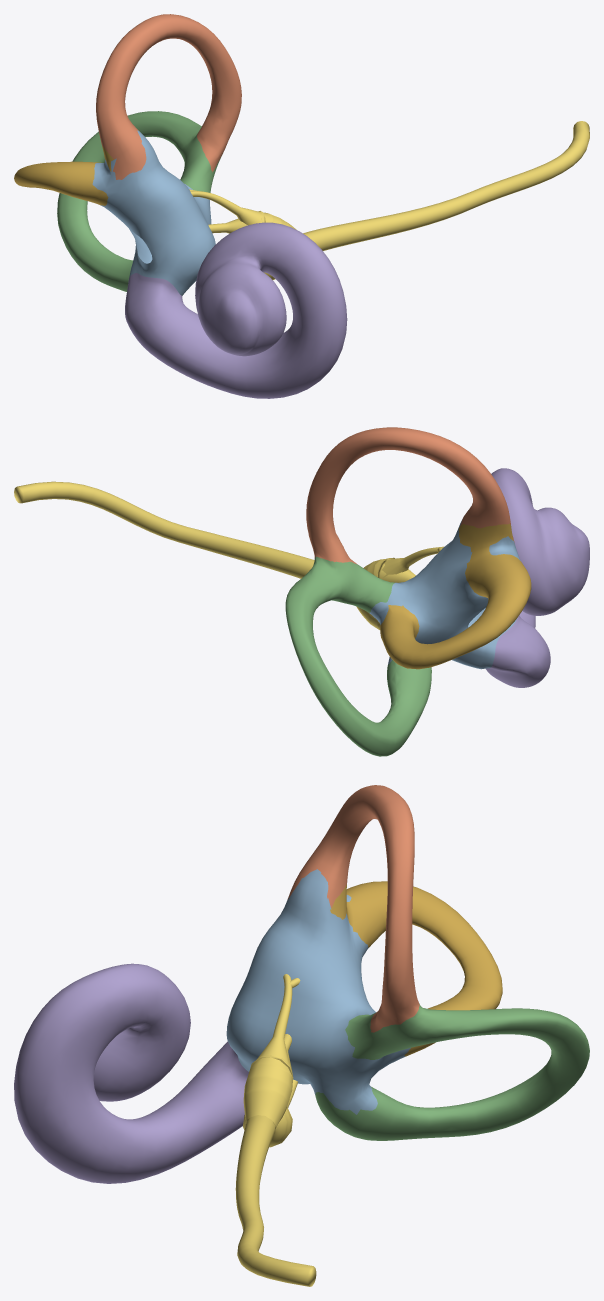
File: vestibular.glb
3 views of the same model, one above another, from view 1: azimuth 30°, elevation 25°; view 2: azimuth 150°, elevation 25°; view 3: azimuth 270°, elevation 25° (orthographic). The views are drawn at different scales.
Visible parts, largest first — view 1: cochlea, anterior-canal, vestibule, vestibular-nerve, posterior-canal, lateral-canal; view 2: posterior-canal, cochlea, anterior-canal, lateral-canal, vestibule, vestibular-nerve; view 3: cochlea, vestibule, posterior-canal, anterior-canal, vestibular-nerve, lateral-canal.
Part boxes in pixels (<box>): cochlea: <box>125,222,347,398</box>; anterior-canal: <box>96,14,241,179</box>; vestibule: <box>92,130,215,295</box>; vestibular-nerve: <box>189,121,589,279</box>; posterior-canal: <box>57,111,221,291</box>; lateral-canal: <box>14,145,113,205</box>; posterior-canal: <box>285,556,431,756</box>; cochlea: <box>486,468,589,687</box>; anterior-canal: <box>306,427,514,564</box>; lateral-canal: <box>380,523,531,669</box>; vestibule: <box>369,519,520,669</box>; vestibular-nerve: <box>14,481,443,629</box>; cochlea: <box>14,963,248,1183</box>; vestibule: <box>226,869,410,1114</box>; posterior-canal: <box>315,1003,589,1140</box>; anterior-canal: <box>287,785,419,1032</box>; vestibular-nerve: <box>235,974,316,1286</box>; lateral-canal: <box>330,881,502,1056</box>.
Bounding box in the file's own units: 2.55 × 1.4 × 1.9.
